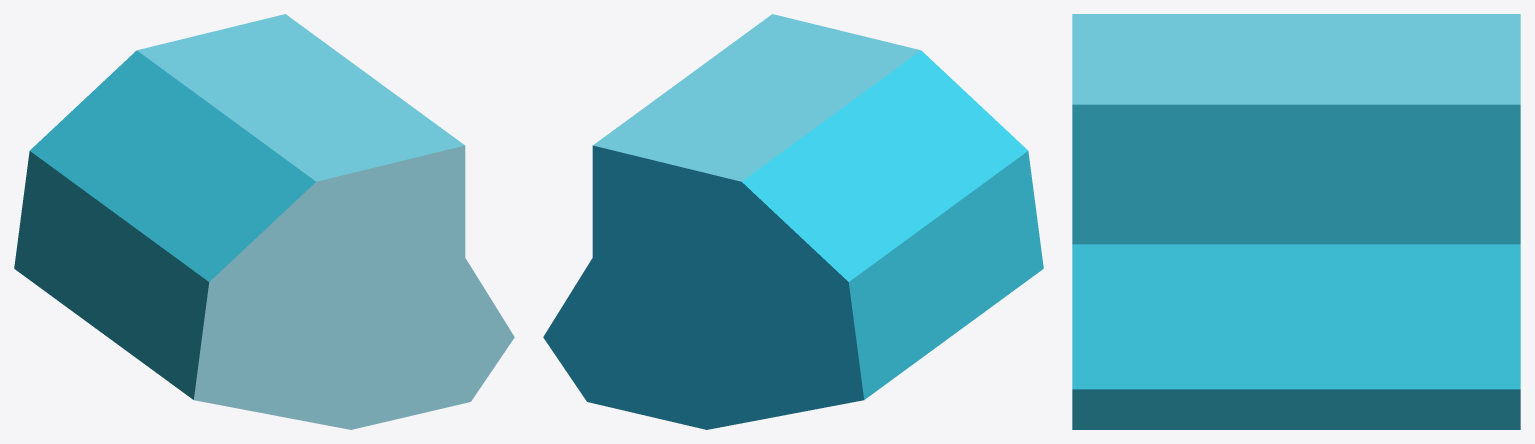
Rendered from D_FBX_07_DesT_Wall_02.fbx.
The picture shows the model from 3 angles, left to right: view 1: azimuth 30°, elevation 25°; view 2: azimuth 150°, elevation 25°; view 3: azimuth 270°, elevation 25°; orthographic projection. The views are drawn at different scales.
Visible parts, largest first — view 1: D_FBX_07_DesT_Wall_02; view 2: D_FBX_07_DesT_Wall_02; view 3: D_FBX_07_DesT_Wall_02.
Boxes of the visible parts, left/top/right/bottom form: D_FBX_07_DesT_Wall_02: left=14, top=14, right=514, bottom=429; D_FBX_07_DesT_Wall_02: left=543, top=14, right=1043, bottom=429; D_FBX_07_DesT_Wall_02: left=1072, top=14, right=1520, bottom=429.
Bounding box in the file's own units: 116 × 89.1 × 112.
